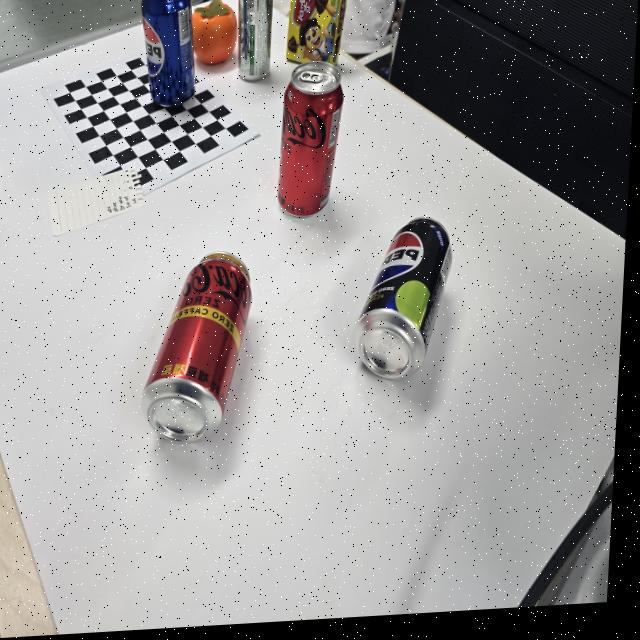can_coke_decaf: (139, 248, 253, 447)
can_coke_zero: (277, 58, 344, 223)
can_pepsi: (140, 0, 198, 114)
can_pepsi_zero: (357, 214, 453, 382)
